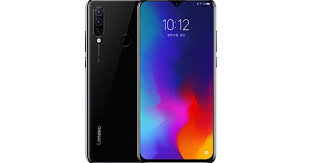lenovo: (83, 1, 213, 162), (133, 1, 215, 162)
